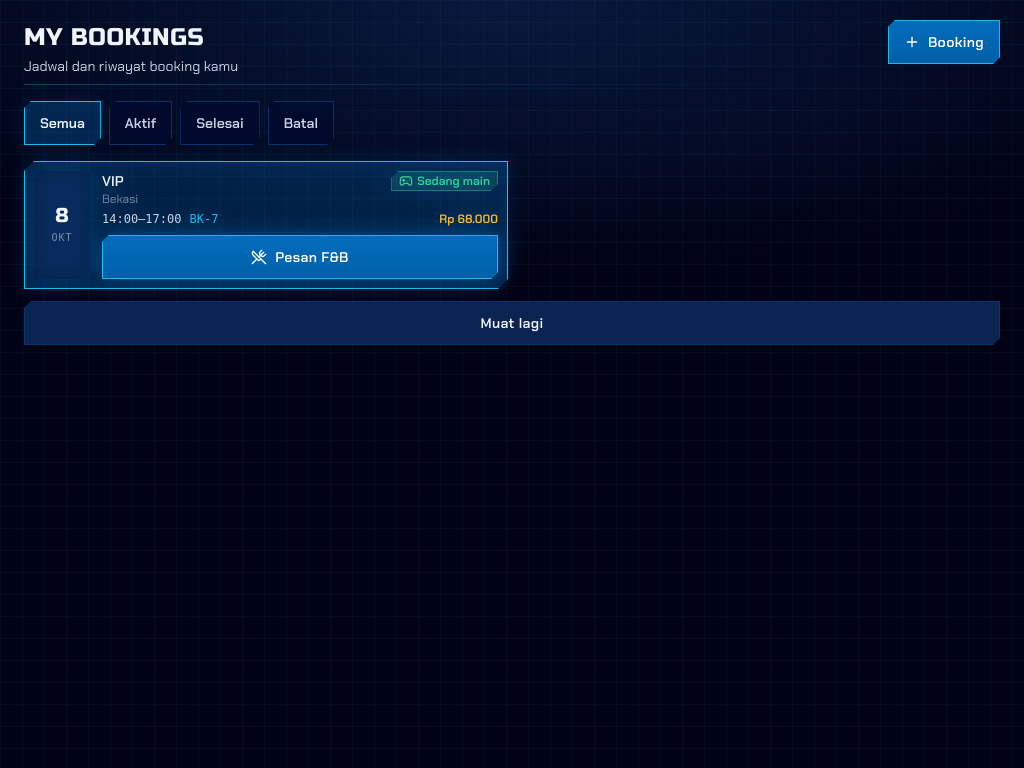
it: MyBookingsView › "Muat lagi" appends the next page and disappears on the last page
Click the button "Muat lagi": (512, 323) [24,301,1000,345]
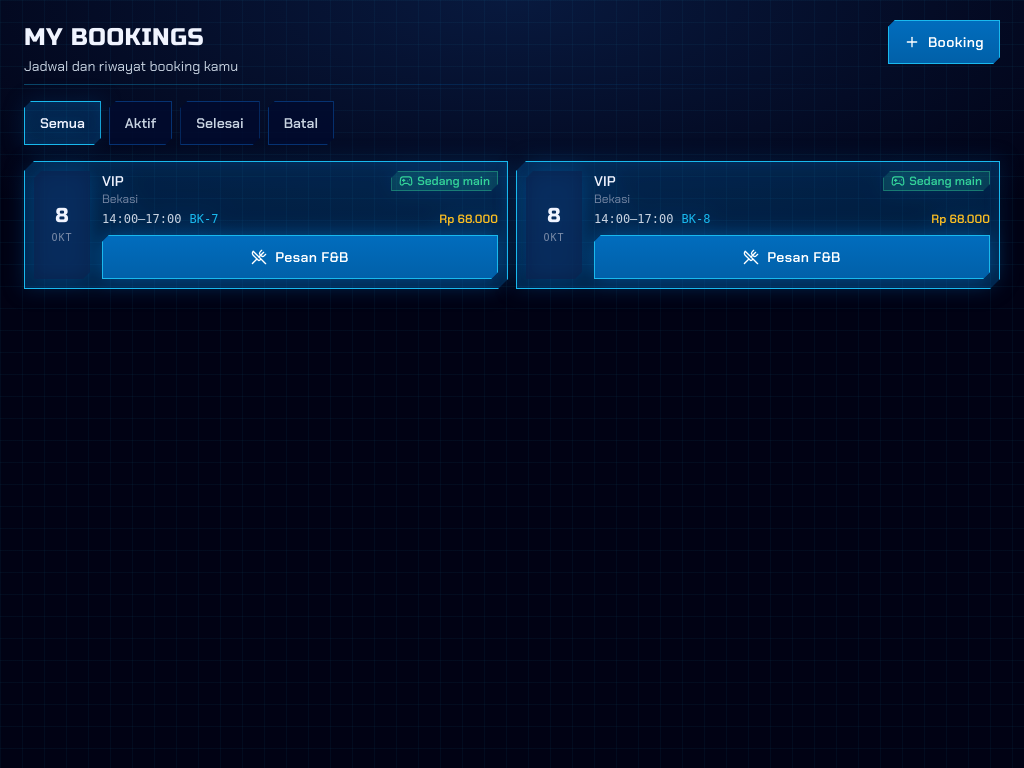
Expected: the text "BK-7" is shown, [190,211,218,227]
Now the text "BK-8" is shown, box [682,211,710,227]
